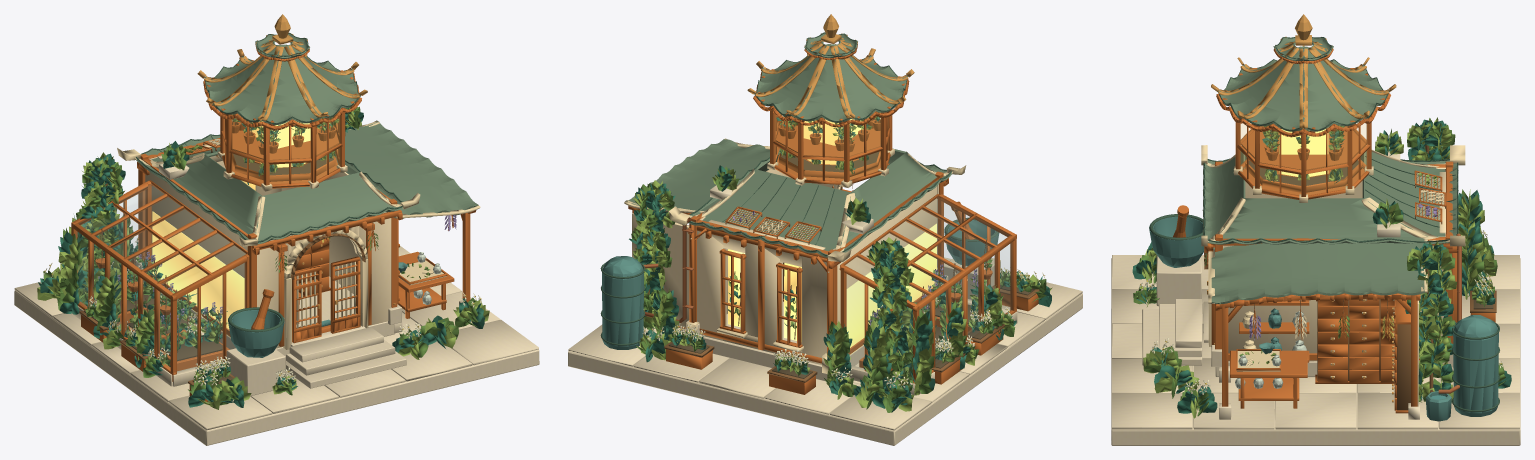
The model's file is herb-lod1-751f11ad5c4e.glb.
The picture shows the model from 3 angles, left to right: view 1: azimuth 30°, elevation 25°; view 2: azimuth 150°, elevation 25°; view 3: azimuth 270°, elevation 25°; orthographic projection. The views are drawn at different scales.
Visible parts, largest first — view 1: RFbatch_0.030, RFbatch_6.030, RFbatch_17.030, RFbatch_2.030, RFbatch_56.030, RFbatch_46.030, RFbatch_55.030, RFbatch_83.020, RFbatch_99.017, RFbatch_8.030, RFbatch_81.020, RFbatch_18.030 (+4 smaller); view 2: RFbatch_6.030, RFbatch_17.030, RFbatch_0.030, RFbatch_2.030, RFbatch_46.030, RFbatch_56.030, RFbatch_55.030, RFbatch_81.020, RFbatch_99.017, RFbatch_8.030, RFbatch_83.020, RFbatch_22.030 (+5 smaller); view 3: RFbatch_0.030, RFbatch_17.030, RFbatch_6.030, RFbatch_81.020, RFbatch_55.030, RFbatch_56.030, RFbatch_46.030, RFbatch_83.020, RFbatch_8.030, RFbatch_2.030, RFbatch_18.030, RFbatch_29.030 (+5 smaller).
Part boxes in pixels (bbox=[...]): RFbatch_0.030: bbox=[14, 163, 539, 445]; RFbatch_6.030: bbox=[71, 44, 476, 401]; RFbatch_17.030: bbox=[136, 33, 478, 244]; RFbatch_2.030: bbox=[145, 144, 391, 348]; RFbatch_56.030: bbox=[38, 108, 484, 407]; RFbatch_46.030: bbox=[43, 106, 478, 405]; RFbatch_55.030: bbox=[37, 107, 489, 409]; RFbatch_83.020: bbox=[117, 120, 480, 349]; RFbatch_99.017: bbox=[152, 120, 310, 337]; RFbatch_8.030: bbox=[145, 14, 395, 308]; RFbatch_81.020: bbox=[228, 262, 407, 357]; RFbatch_18.030: bbox=[136, 32, 402, 332]; RFbatch_6.030: bbox=[628, 44, 1038, 394]; RFbatch_17.030: bbox=[626, 33, 951, 257]; RFbatch_0.030: bbox=[568, 185, 1082, 445]; RFbatch_2.030: bbox=[632, 169, 938, 364]; RFbatch_46.030: bbox=[631, 114, 1046, 412]; RFbatch_56.030: bbox=[629, 111, 1051, 412]; RFbatch_55.030: bbox=[633, 112, 1052, 411]; RFbatch_81.020: bbox=[602, 220, 999, 349]; RFbatch_99.017: bbox=[728, 119, 937, 354]; RFbatch_8.030: bbox=[747, 14, 914, 118]; RFbatch_83.020: bbox=[624, 138, 966, 373]; RFbatch_22.030: bbox=[942, 202, 1010, 309]; RFbatch_0.030: bbox=[1111, 151, 1520, 445]; RFbatch_17.030: bbox=[1202, 37, 1458, 304]; RFbatch_6.030: bbox=[1173, 48, 1495, 413]; RFbatch_81.020: bbox=[1149, 216, 1498, 421]; RFbatch_55.030: bbox=[1139, 117, 1495, 418]; RFbatch_56.030: bbox=[1132, 119, 1511, 413]; RFbatch_46.030: bbox=[1133, 118, 1506, 416]; RFbatch_83.020: bbox=[1201, 145, 1465, 402]; RFbatch_8.030: bbox=[1207, 14, 1396, 402]; RFbatch_2.030: bbox=[1223, 167, 1445, 406]; RFbatch_18.030: bbox=[1149, 37, 1499, 411]; RFbatch_29.030: bbox=[1204, 124, 1496, 410].
Bounding box in the file's own units: 10 × 9.33 × 10.
22 materials, 12 textured.
